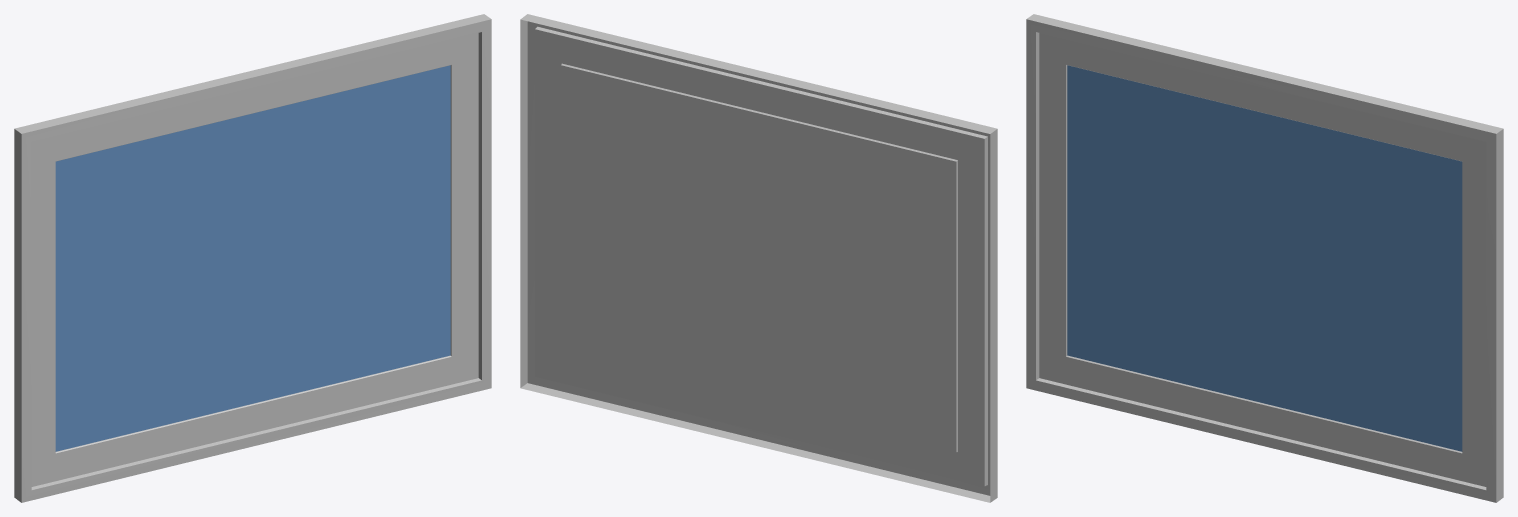
The model's file is Frame.fbx.
The picture shows the model from 3 angles, left to right: view 1: azimuth 30°, elevation 25°; view 2: azimuth 150°, elevation 25°; view 3: azimuth 330°, elevation 25°; orthographic projection.
Parts seen in each view (by area): view 1: Glass, Frame; view 2: Frame; view 3: Glass, Frame.
Boxes of the visible parts, x1,y1,x2,y2 form: Glass: (55, 65, 450, 451); Frame: (14, 14, 491, 502); Frame: (520, 14, 997, 502); Glass: (1067, 65, 1462, 451); Frame: (1026, 14, 1503, 502).
Bounding box in the file's own units: 108 × 81 × 2.95.
